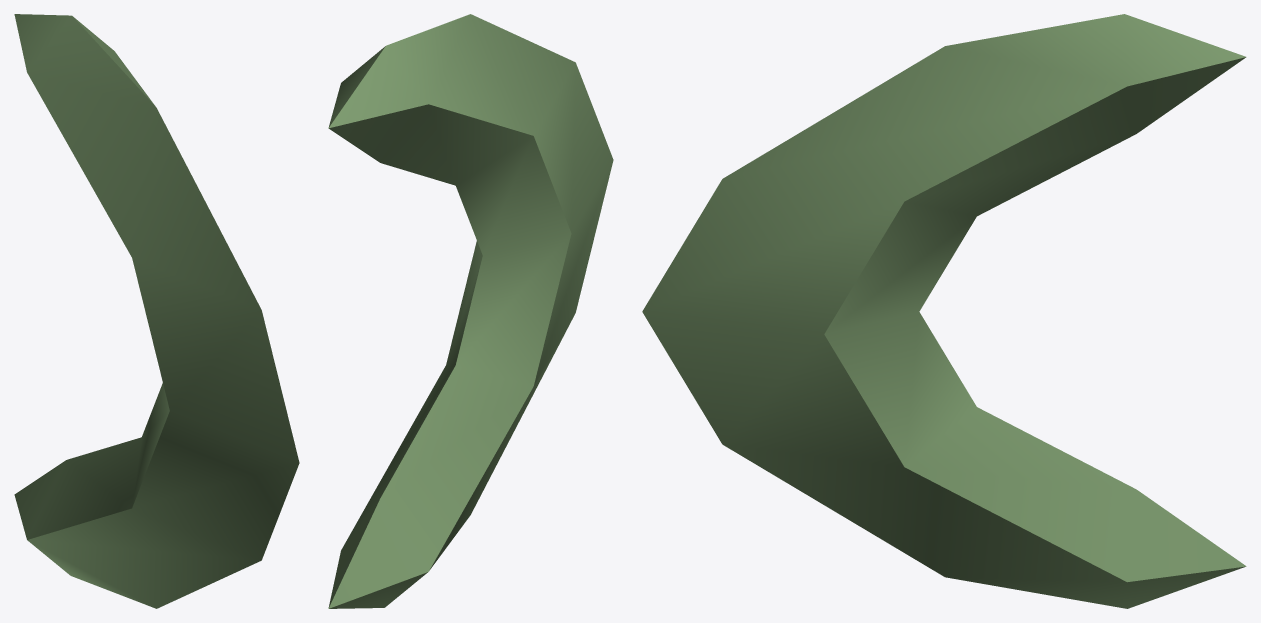
File: BladeOfGrass.fbx
3 renders of one model, left to right at view 1: azimuth 30°, elevation 25°; view 2: azimuth 150°, elevation 25°; view 3: azimuth 270°, elevation 25°, orthographic. The views are drawn at different scales.
Visible parts, largest first — view 1: pCube1; view 2: pCube1; view 3: pCube1.
Part boxes in pixels (x1,y1,x2,y2): pCube1: (14,14,299,608); pCube1: (328,14,613,608); pCube1: (642,14,1246,608).
Size of the model in its own units: 0.5499 by 3.37 by 3.1.
